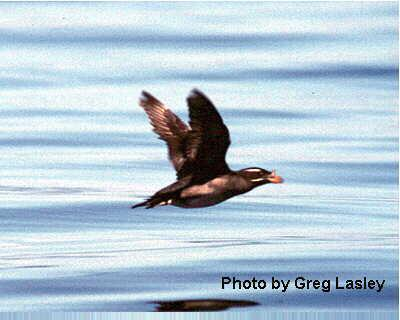008.Rhinoceros_Auklet: (129, 88, 286, 212)
